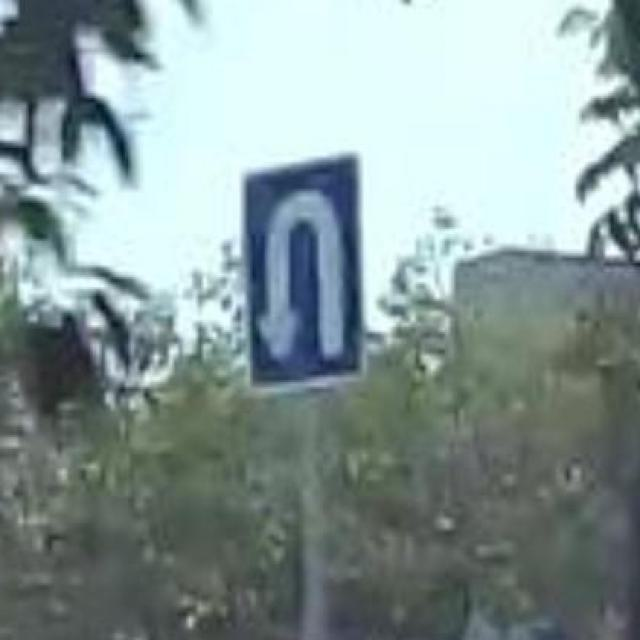U-turn: (240, 165, 365, 384)
